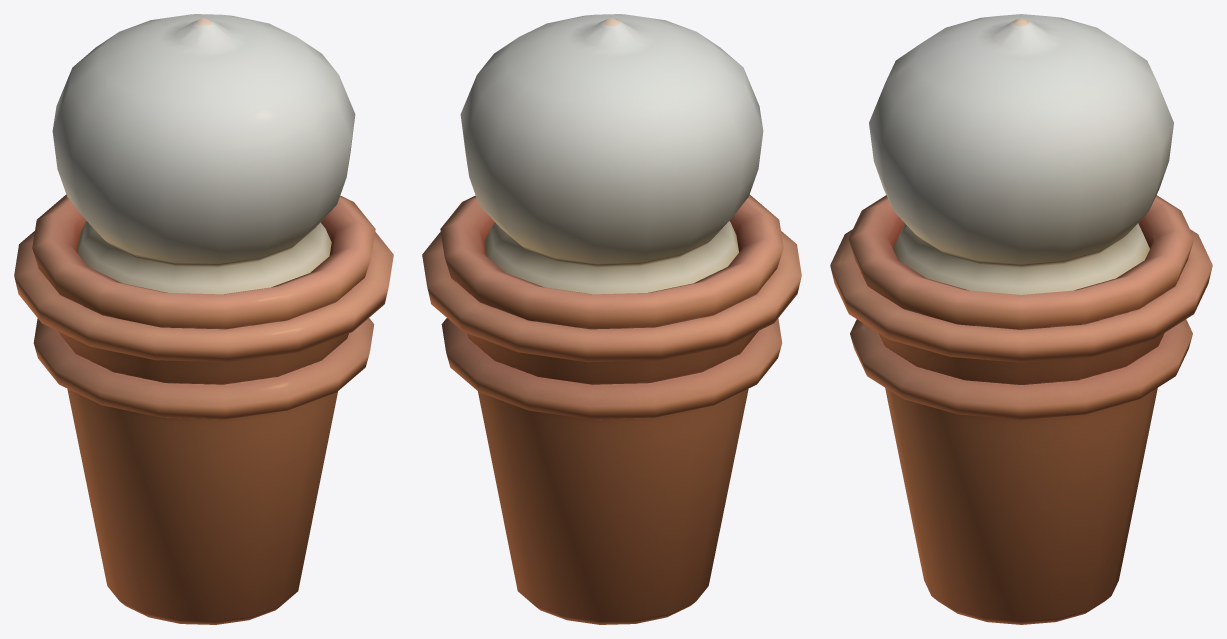
File: IceCream.fbx
3 views of the same model, side by side, from view 1: azimuth 30°, elevation 25°; view 2: azimuth 150°, elevation 25°; view 3: azimuth 270°, elevation 25° (orthographic).
Visible parts, largest first — view 1: Ice; view 2: Ice; view 3: Ice.
Part boxes in pixels (bbox=[...]): Ice: bbox=[14, 14, 393, 624]; Ice: bbox=[422, 14, 801, 624]; Ice: bbox=[830, 14, 1212, 624].
Size of the model in its own units: 9.61 by 15.78 by 9.61.
Materials: 1 (1 with a texture image).
